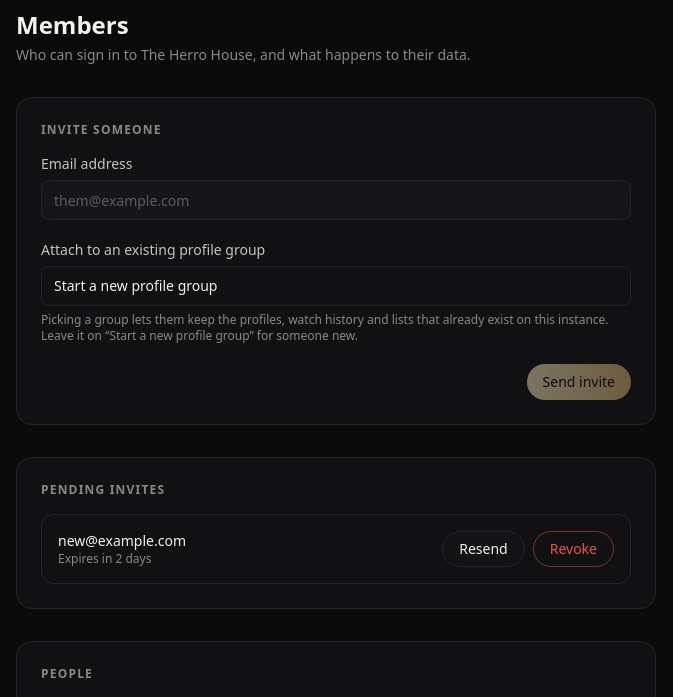
Test: MembersView invites › resends an invite and keeps the link when delivery fails again
Check: the text "new@example.com" is shown, box [58,531,186,551]
Click the button "Resend" at (484, 549), box [442,531,525,567]
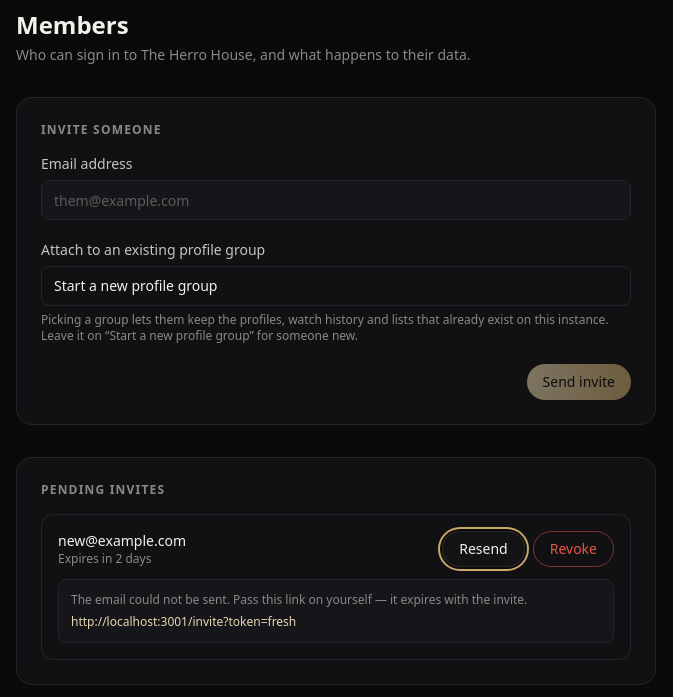
Check: the text "http://localhost:3001/invite?token=fresh" is shown, box [71,613,296,630]
